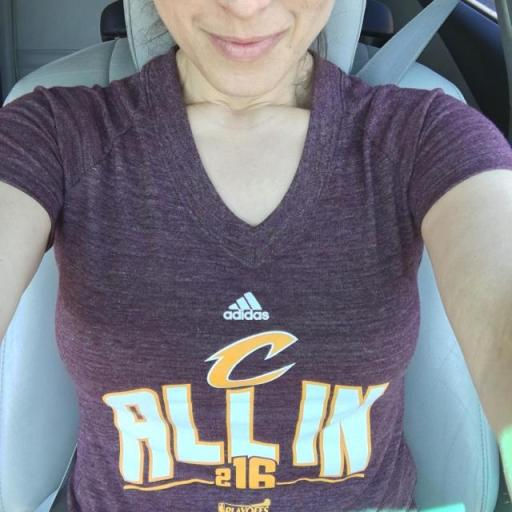Adidas: (220, 289, 273, 322)
